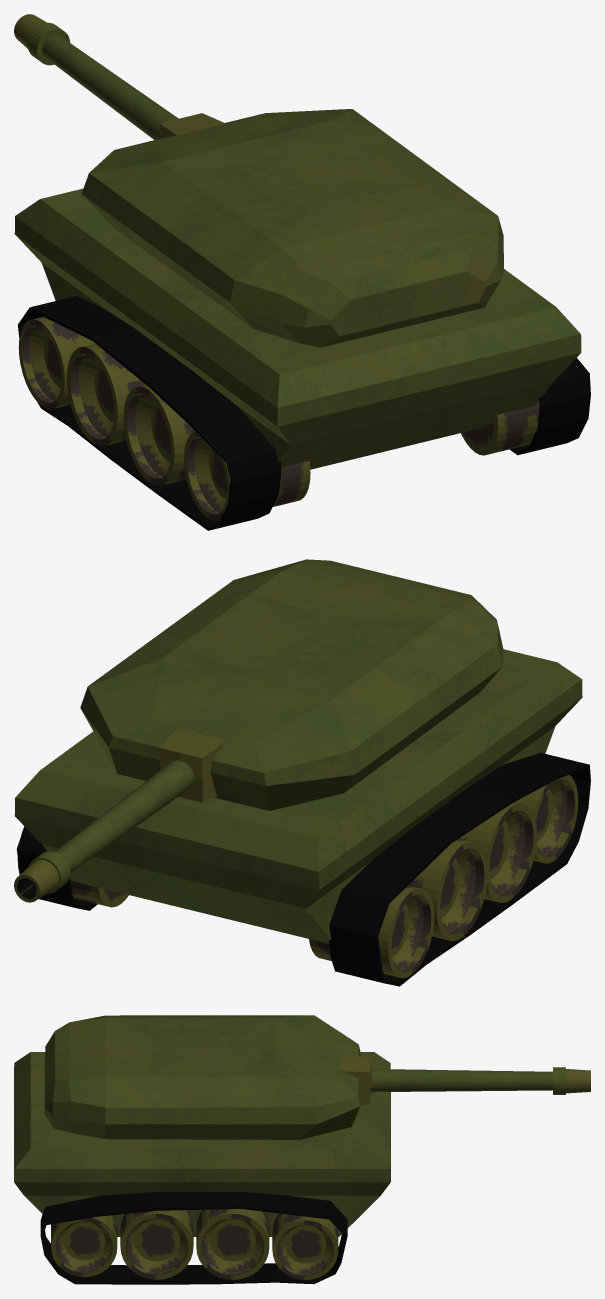
File: tank.fbx
3 renders of one model, top to bottom at view 1: azimuth 30°, elevation 25°; view 2: azimuth 150°, elevation 25°; view 3: azimuth 270°, elevation 25°, orthographic. The views are drawn at different scales.
Parts seen in each view (by area): view 1: TankHead, TankEngine, Plane.001, TankCannon, Cylinder.006, Cylinder.005, Cylinder.007, Cylinder.004, Plane, Cylinder; view 2: TankHead, TankEngine, Plane.001, TankCannon, Cylinder.006, Cylinder.005, Cylinder.007, Cylinder.004, Plane, Cylinder.003; view 3: TankHead, TankEngine, Plane, TankCannon, Cylinder.002, Cylinder.001, Cylinder.003, Cylinder.
Boxes of the visible parts, <box> form: TankHead: <box>81,109,503,347</box>; TankEngine: <box>14,188,581,469</box>; Plane.001: <box>18,296,281,530</box>; TankCannon: <box>14,14,225,139</box>; Cylinder.006: <box>66,343,145,446</box>; Cylinder.005: <box>123,384,194,485</box>; Cylinder.007: <box>18,317,95,409</box>; Cylinder.004: <box>184,431,310,520</box>; Plane: <box>509,358,590,455</box>; Cylinder: <box>461,401,539,455</box>; TankHead: <box>80,559,503,810</box>; TankEngine: <box>14,649,582,943</box>; Plane.001: <box>329,752,590,986</box>; TankCannon: <box>14,728,226,902</box>; Cylinder.006: <box>408,838,487,941</box>; Cylinder.005: <box>459,802,536,903</box>; Cylinder.007: <box>309,885,434,978</box>; Cylinder.004: <box>515,775,578,863</box>; Plane: <box>16,826,97,910</box>; Cylinder.003: <box>17,826,128,907</box>; TankHead: <box>44,1015,360,1139</box>; TankEngine: <box>14,1052,390,1236</box>; Plane: <box>40,1192,347,1284</box>; TankCannon: <box>341,1054,590,1105</box>; Cylinder.002: <box>196,1209,269,1279</box>; Cylinder.001: <box>120,1210,193,1279</box>; Cylinder.003: <box>272,1213,338,1280</box>; Cylinder: <box>51,1215,117,1277</box>.
Size of the model in its own units: 507 by 320 by 956.
5 materials, 4 textured.
